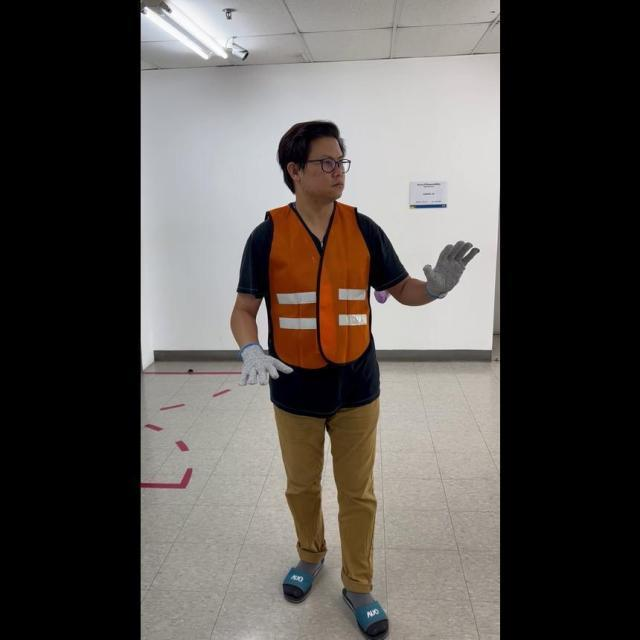gloved_hand: (420, 235, 478, 298), (234, 338, 292, 387)
